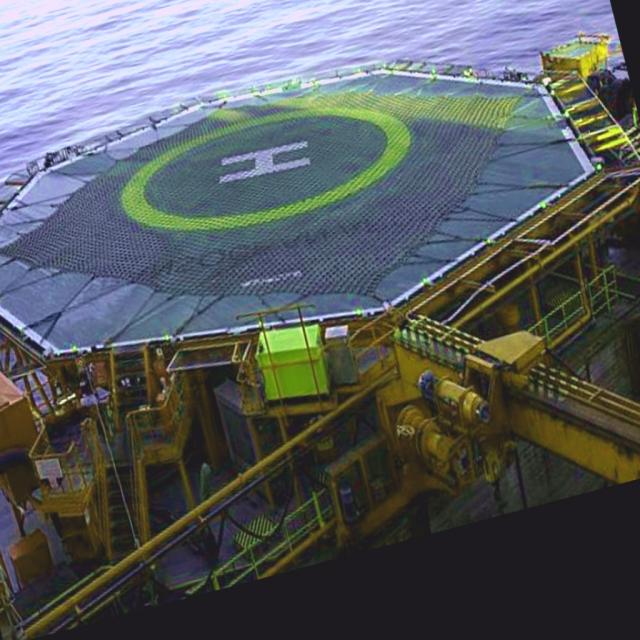helipad: (116, 99, 413, 235)
